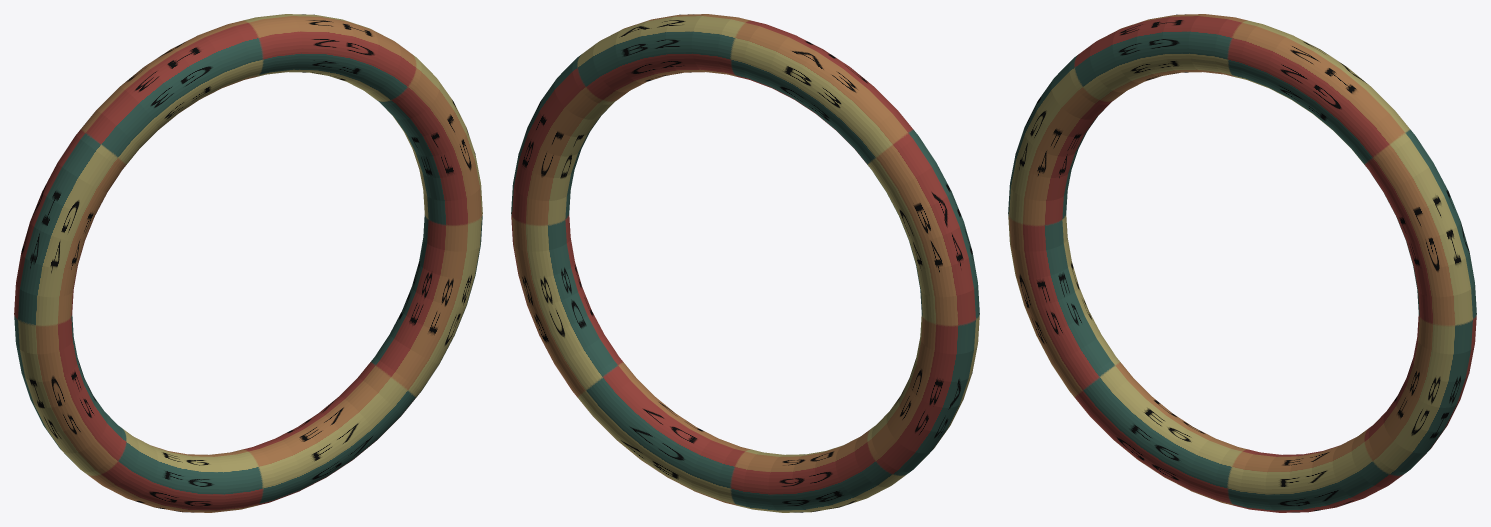
Rendered from texture_torus_R29_r6.glb.
The picture shows the model from 3 angles, left to right: view 1: azimuth 30°, elevation 25°; view 2: azimuth 150°, elevation 25°; view 3: azimuth 330°, elevation 25°; orthographic projection.
Parts seen in each view (by area): view 1: world; view 2: world; view 3: world.
Boxes of the visible parts, <box> form: world: <box>14,14,482,512</box>; world: <box>511,14,979,512</box>; world: <box>1008,14,1476,512</box>.
Bounding box in the file's own units: 32.93 × 32.87 × 3.59.
1 material, 1 textured.
